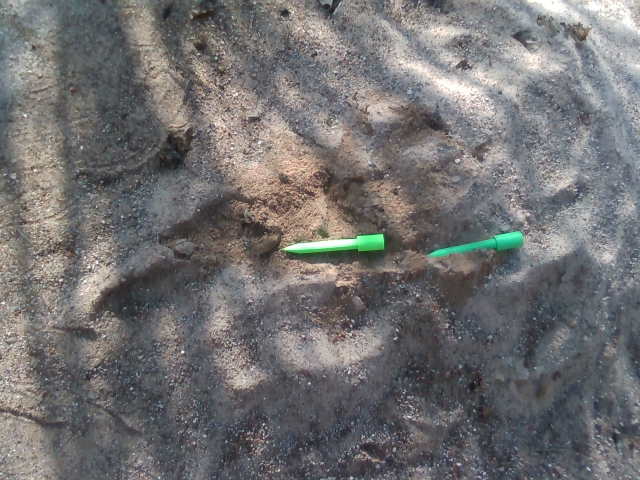Probe: (419, 226, 528, 265), (273, 230, 390, 258)
